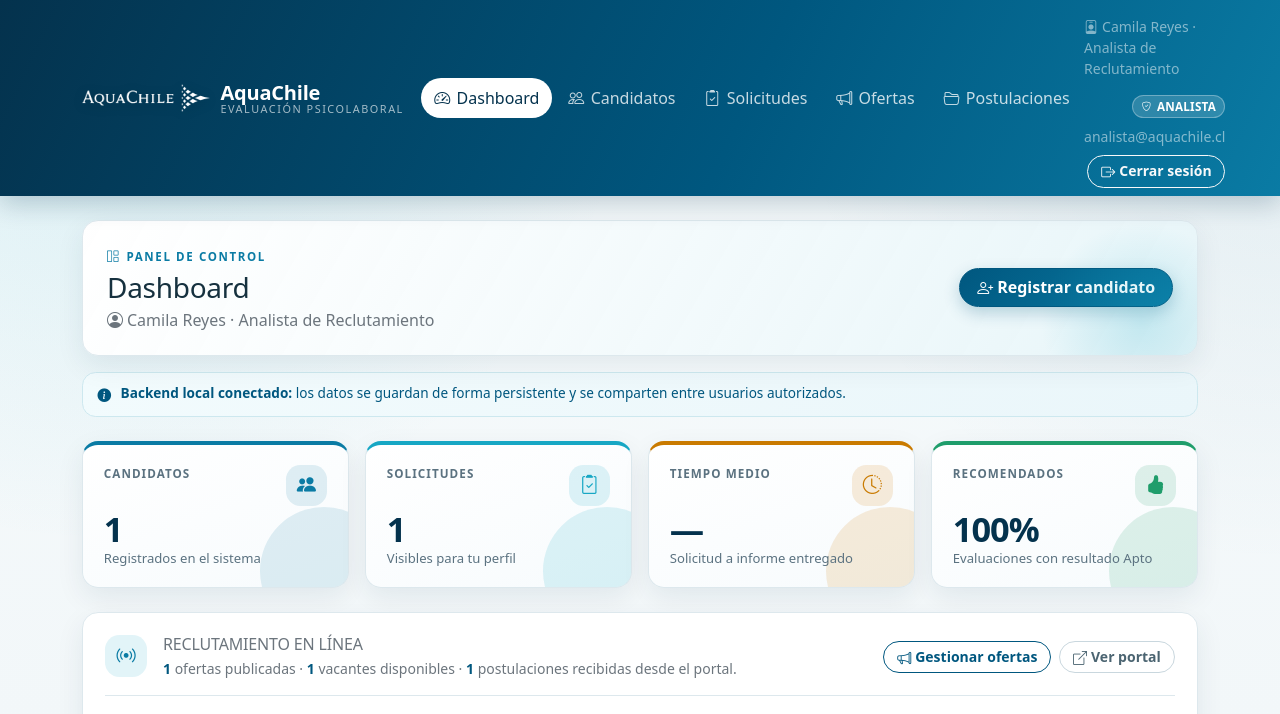
Scenario: App en modo API › muestra la sesión real y navega a postulaciones
Expected: the heading "Dashboard" is shown, [107, 268, 249, 306]
Expected: the 1st text "Camila Reyes · Analista de Reclutamiento" is shown, [1084, 17, 1196, 78]
Click the link "Postulaciones" at {"x": 1007, "y": 98}, box [943, 86, 1070, 110]
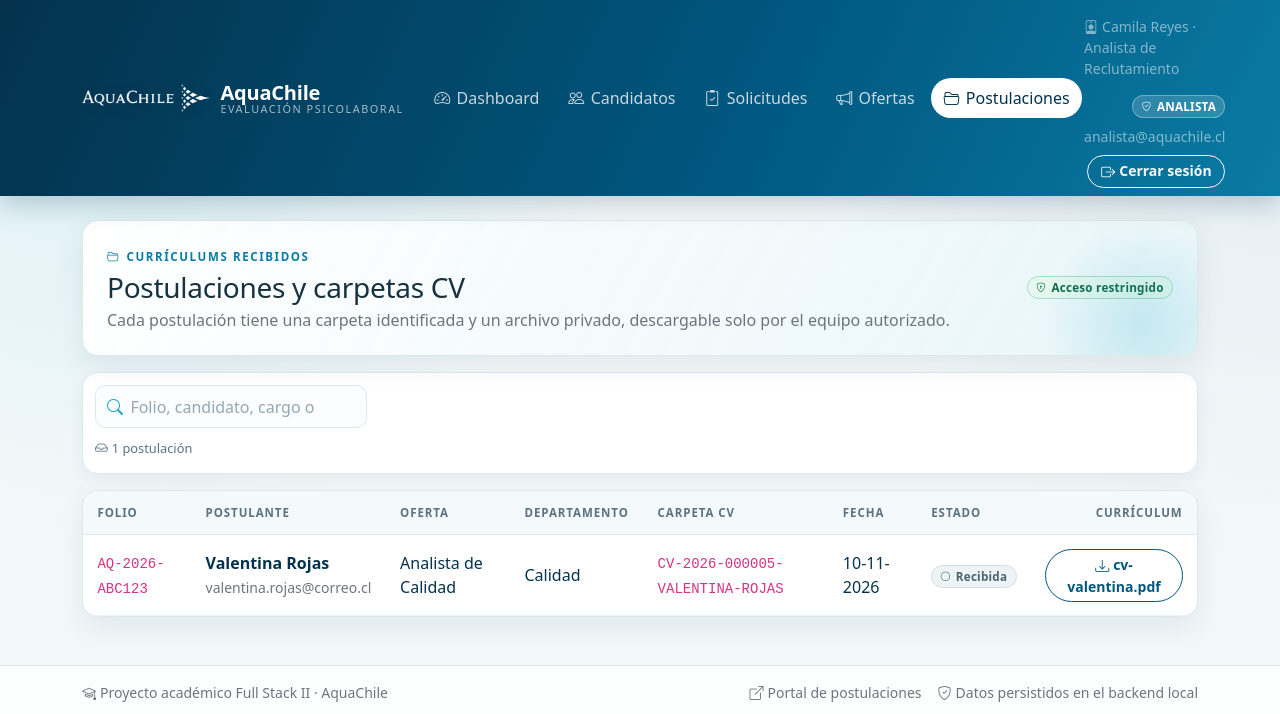
Expected: the heading "Postulaciones y carpetas CV" is shown, [107, 268, 465, 306]
